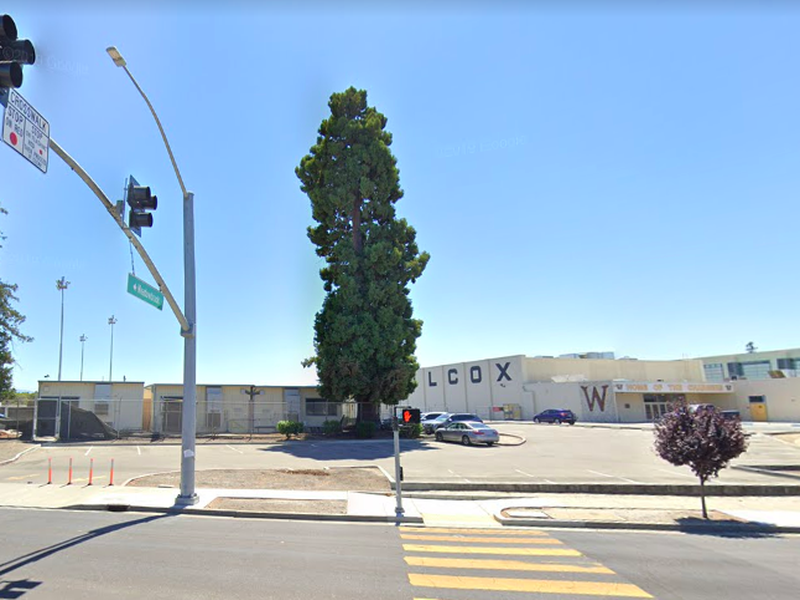tree: (294, 82, 432, 437), (653, 402, 751, 523)
